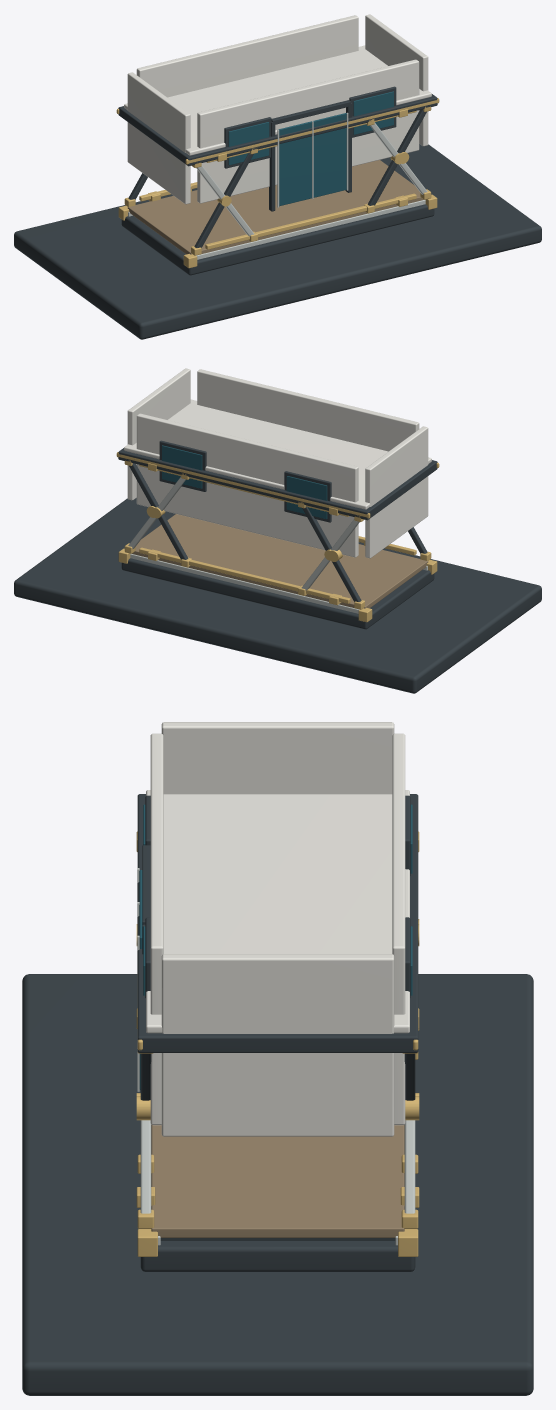
The model's file is mypod-xfold.glb.
The picture shows the model from 3 angles, top to bottom: view 1: azimuth 30°, elevation 25°; view 2: azimuth 150°, elevation 25°; view 3: azimuth 270°, elevation 25°; orthographic projection. The views are drawn at different scales.
Parts seen in each view (by area): view 1: STAGE_|_display_plinth, WALL_|_FRONT_insulated_panel, BASE_|_insulated_floor_cassette, WALL_|_REAR_insulated_panel, ROOF_|_insulated_top_panel, WALL_|_LEFT_end_insulated_panel, ENTRY_|_double_glass_door, BASE_|_perimeter_transport_chassis, ROOF_|_perimeter_beam, WALL_|_RIGHT_end_insulated_panel, X-FOLD_|_lower_rail_FRONT, BASE_|_longitudinal_RHS (+11 smaller); view 2: STAGE_|_display_plinth, WALL_|_REAR_insulated_panel, BASE_|_insulated_floor_cassette, WALL_|_FRONT_insulated_panel, ROOF_|_insulated_top_panel, WALL_|_LEFT_end_insulated_panel, BASE_|_perimeter_transport_chassis, ROOF_|_perimeter_beam, WALL_|_RIGHT_end_insulated_panel, X-FOLD_|_lower_rail_REAR, BASE_|_longitudinal_RHS001, WINDOW_|_REAR_smoked_glazing (+8 smaller); view 3: STAGE_|_display_plinth, WALL_|_RIGHT_end_insulated_panel, ROOF_|_insulated_top_panel, BASE_|_insulated_floor_cassette, WALL_|_LEFT_end_insulated_panel, ROOF_|_perimeter_beam, BASE_|_perimeter_transport_chassis, WALL_|_FRONT_insulated_panel, WALL_|_REAR_insulated_panel, X-FOLD_|_FRONT_RIGHT_diagonal_return, X-FOLD_|_REAR_RIGHT_diagonal_return.
Boxes of the visible parts, x1,y1,x2,y2 form: STAGE_|_display_plinth: [14, 144, 541, 339]; WALL_|_FRONT_insulated_panel: [197, 59, 419, 203]; BASE_|_insulated_floor_cassette: [127, 160, 423, 254]; WALL_|_REAR_insulated_panel: [136, 15, 358, 97]; ROOF_|_insulated_top_panel: [124, 45, 431, 155]; WALL_|_LEFT_end_insulated_panel: [127, 72, 190, 204]; ENTRY_|_double_glass_door: [278, 113, 346, 206]; BASE_|_perimeter_transport_chassis: [121, 204, 434, 275]; ROOF_|_perimeter_beam: [118, 94, 437, 166]; WALL_|_RIGHT_end_insulated_panel: [365, 14, 428, 146]; X-FOLD_|_lower_rail_FRONT: [205, 193, 416, 249]; BASE_|_longitudinal_RHS: [196, 200, 425, 259]; STAGE_|_display_plinth: [14, 498, 541, 693]; WALL_|_REAR_insulated_panel: [136, 413, 358, 557]; BASE_|_insulated_floor_cassette: [132, 514, 428, 608]; WALL_|_FRONT_insulated_panel: [197, 369, 419, 451]; ROOF_|_insulated_top_panel: [124, 399, 431, 509]; WALL_|_LEFT_end_insulated_panel: [365, 426, 428, 558]; BASE_|_perimeter_transport_chassis: [121, 558, 434, 629]; ROOF_|_perimeter_beam: [118, 448, 437, 520]; WALL_|_RIGHT_end_insulated_panel: [127, 368, 190, 500]; X-FOLD_|_lower_rail_REAR: [139, 547, 350, 603]; BASE_|_longitudinal_RHS001: [130, 554, 359, 613]; WINDOW_|_REAR_smoked_glazing: [286, 476, 327, 519]; STAGE_|_display_plinth: [22, 974, 533, 1395]; WALL_|_RIGHT_end_insulated_panel: [161, 954, 394, 1136]; ROOF_|_insulated_top_panel: [146, 790, 409, 1033]; BASE_|_insulated_floor_cassette: [151, 1125, 404, 1237]; WALL_|_LEFT_end_insulated_panel: [161, 722, 394, 794]; ROOF_|_perimeter_beam: [137, 794, 418, 1052]; BASE_|_perimeter_transport_chassis: [140, 1241, 415, 1271]; WALL_|_FRONT_insulated_panel: [150, 733, 163, 1125]; WALL_|_REAR_insulated_panel: [392, 733, 405, 1125]; X-FOLD_|_FRONT_RIGHT_diagonal_return: [140, 1120, 151, 1213]; X-FOLD_|_REAR_RIGHT_diagonal_return: [404, 1120, 415, 1213].
Size of what is drawn, in the model's own units: 10 by 4.29 by 5.5.
